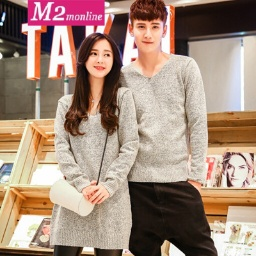face: (71, 32, 121, 93), (127, 1, 168, 55)
